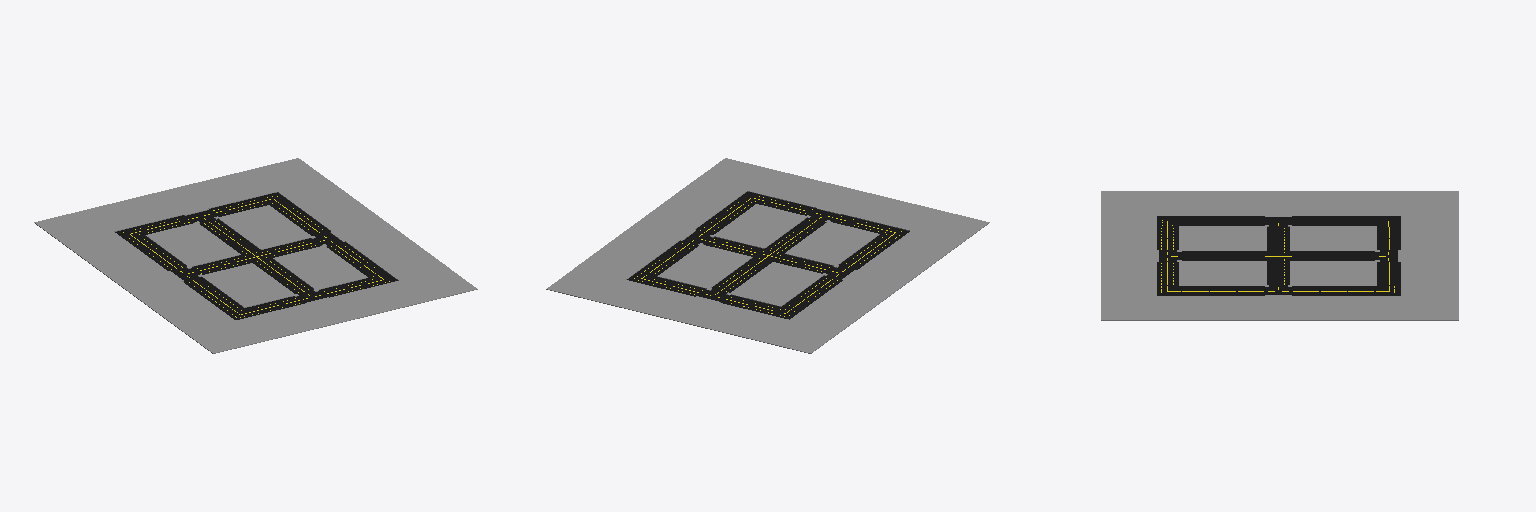
The picture shows the model from 3 angles: view 1: azimuth 30°, elevation 25°; view 2: azimuth 150°, elevation 25°; view 3: azimuth 270°, elevation 25°; orthographic projection.
Visible parts, largest first — view 1: Pavement1.007, Pavement1.006, Pavement1.002, Pavement1.001, Pavement1.250, Pavement1.004, Pavement1.003, Pavement1.005; view 2: Pavement1.007, Pavement1.006, Pavement1.002, Pavement1.001, Pavement1.003, Pavement1.250, Pavement1.004, Pavement1.005; view 3: Pavement1.007, Pavement1.006, Pavement1.002, Pavement1.001, Pavement1.004, Pavement1.250, Pavement1.003, Pavement1.005.
Boxes of the visible parts, x1=… form: Pavement1.007: x1=34, y1=158, x2=325, y2=242; Pavement1.006: x1=186, y1=268, x2=477, y2=353; Pavement1.002: x1=62, y1=231, x2=234, y2=333; Pavement1.001: x1=279, y1=178, x2=448, y2=280; Pavement1.250: x1=204, y1=264, x2=293, y2=306; Pavement1.004: x1=148, y1=224, x2=237, y2=265; Pavement1.003: x1=275, y1=246, x2=363, y2=288; Pavement1.005: x1=221, y1=206, x2=309, y2=248; Pavement1.007: x1=546, y1=268, x2=838, y2=353; Pavement1.006: x1=697, y1=158, x2=989, y2=241; Pavement1.002: x1=791, y1=230, x2=962, y2=332; Pavement1.001: x1=575, y1=177, x2=746, y2=279; Pavement1.003: x1=716, y1=205, x2=804, y2=246; Pavement1.250: x1=788, y1=222, x2=877, y2=264; Pavement1.004: x1=731, y1=263, x2=821, y2=304; Pavement1.005: x1=661, y1=246, x2=750, y2=287; Pavement1.007: x1=1403, y1=191, x2=1458, y2=320; Pavement1.006: x1=1101, y1=191, x2=1156, y2=320; Pavement1.002: x1=1154, y1=191, x2=1402, y2=214; Pavement1.001: x1=1154, y1=296, x2=1402, y2=320; Pavement1.004: x1=1292, y1=226, x2=1375, y2=249; Pavement1.250: x1=1181, y1=226, x2=1264, y2=249; Pavement1.003: x1=1181, y1=261, x2=1264, y2=284; Pavement1.005: x1=1292, y1=262, x2=1375, y2=284.
Bounding box in the file's own units: 44.26 × 0.1 × 51.86.
2 materials, 1 textured.